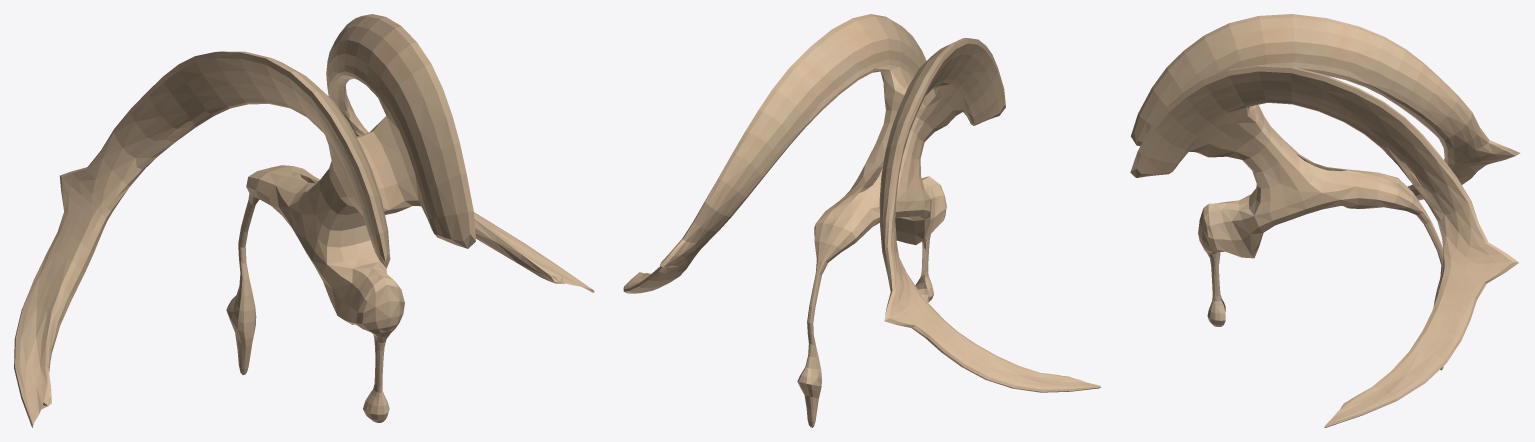
File: pituitary.obj
3 renders of one model, left to right at view 1: azimuth 30°, elevation 25°; view 2: azimuth 150°, elevation 25°; view 3: azimuth 270°, elevation 25°, orthographic. The views are drawn at different scales.
Bounding box in the file's own units: 3.76 × 2.55 × 2.75.
1 material, 1 textured.
